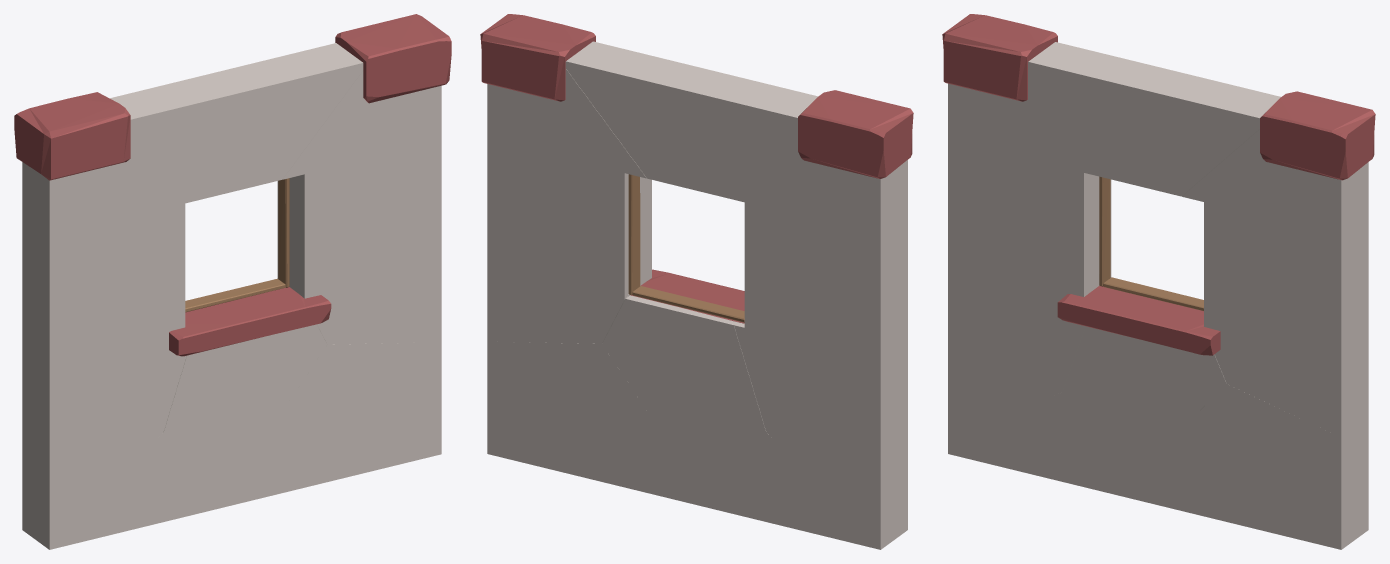
The model's file is PKF_PK_Wall_Window_Small_v1.fbx.
3 renders of one model, left to right at view 1: azimuth 30°, elevation 25°; view 2: azimuth 150°, elevation 25°; view 3: azimuth 330°, elevation 25°, orthographic.
Visible parts, largest first — view 1: PK_Wall_Window_Small_Chunk_09, PK_Wall_Window_Small_Chunk_06, PK_Wall_Window_Small_Chunk_02, PK_Wall_Window_Small_Chunk_10, PK_Wall_Window_Small_Chunk_03, PK_Wall_Window_Small_Chunk_05, PK_Wall_Window_Small_Chunk_11, PK_Wall_Window_Small_Chunk_04, PK_Wall_Window_Small_Chunk_01, PK_Wall_Window_Small_Chunk_00, PK_Wall_Window_Small_Chunk_08, PK_Wall_Window_Small_Chunk_07 (+2 smaller); view 2: PK_Wall_Window_Small_Chunk_09, PK_Wall_Window_Small_Chunk_06, PK_Wall_Window_Small_Chunk_02, PK_Wall_Window_Small_Chunk_10, PK_Wall_Window_Small_Chunk_03, PK_Wall_Window_Small_Chunk_05, PK_Wall_Window_Small_Chunk_11, PK_Wall_Window_Small_Chunk_04, PK_Wall_Window_Small_Chunk_01, PK_Wall_Window_Small_Chunk_00, PK_Wall_Window_Small_Chunk_08, PK_Wall_Window_Small_Chunk_07 (+2 smaller); view 3: PK_Wall_Window_Small_Chunk_09, PK_Wall_Window_Small_Chunk_06, PK_Wall_Window_Small_Chunk_02, PK_Wall_Window_Small_Chunk_11, PK_Wall_Window_Small_Chunk_10, PK_Wall_Window_Small_Chunk_03, PK_Wall_Window_Small_Chunk_05, PK_Wall_Window_Small_Chunk_01, PK_Wall_Window_Small_Chunk_04, PK_Wall_Window_Small_Chunk_00, PK_Wall_Window_Small_Chunk_08, PK_Wall_Window_Small_Chunk_07 (+2 smaller).
Boxes of the visible parts, box(x1,y1,x2,y2) form: PK_Wall_Window_Small_Chunk_09: box(14, 84, 222, 288); PK_Wall_Window_Small_Chunk_06: box(277, 167, 441, 344); PK_Wall_Window_Small_Chunk_02: box(276, 342, 441, 489); PK_Wall_Window_Small_Chunk_10: box(169, 30, 378, 201); PK_Wall_Window_Small_Chunk_03: box(163, 287, 327, 432); PK_Wall_Window_Small_Chunk_05: box(22, 269, 205, 442); PK_Wall_Window_Small_Chunk_11: box(282, 14, 451, 179); PK_Wall_Window_Small_Chunk_04: box(22, 305, 151, 474); PK_Wall_Window_Small_Chunk_01: box(148, 420, 296, 525); PK_Wall_Window_Small_Chunk_00: box(22, 450, 148, 549); PK_Wall_Window_Small_Chunk_08: box(277, 141, 441, 234); PK_Wall_Window_Small_Chunk_07: box(114, 207, 185, 314); PK_Wall_Window_Small_Chunk_09: box(707, 82, 913, 288); PK_Wall_Window_Small_Chunk_06: box(487, 166, 660, 343); PK_Wall_Window_Small_Chunk_02: box(487, 341, 653, 489); PK_Wall_Window_Small_Chunk_10: box(550, 29, 760, 200); PK_Wall_Window_Small_Chunk_03: box(602, 271, 766, 432); PK_Wall_Window_Small_Chunk_05: box(734, 268, 907, 442); PK_Wall_Window_Small_Chunk_11: box(480, 14, 646, 178); PK_Wall_Window_Small_Chunk_04: box(777, 304, 907, 474); PK_Wall_Window_Small_Chunk_01: box(632, 420, 781, 525); PK_Wall_Window_Small_Chunk_00: box(781, 450, 907, 549); PK_Wall_Window_Small_Chunk_08: box(487, 140, 651, 233); PK_Wall_Window_Small_Chunk_07: box(744, 206, 815, 313); PK_Wall_Window_Small_Chunk_09: box(942, 14, 1121, 214); PK_Wall_Window_Small_Chunk_06: box(1194, 242, 1368, 437); PK_Wall_Window_Small_Chunk_02: box(1175, 384, 1368, 549); PK_Wall_Window_Small_Chunk_11: box(1182, 93, 1375, 235); PK_Wall_Window_Small_Chunk_10: box(1089, 58, 1304, 196); PK_Wall_Window_Small_Chunk_03: box(1062, 288, 1226, 434); PK_Wall_Window_Small_Chunk_05: box(948, 192, 1111, 396); PK_Wall_Window_Small_Chunk_01: box(1047, 392, 1195, 514); PK_Wall_Window_Small_Chunk_04: box(948, 229, 1050, 402); PK_Wall_Window_Small_Chunk_00: box(948, 378, 1046, 477); PK_Wall_Window_Small_Chunk_08: box(1204, 202, 1368, 262); PK_Wall_Window_Small_Chunk_07: box(1012, 174, 1111, 284).
Size of the model in its own units: 206 by 204 by 35.04.
